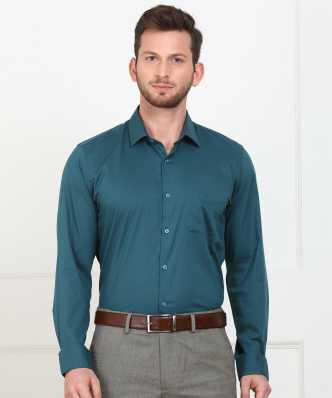F_belt: (89, 304, 234, 335)
F_shirt: (55, 109, 272, 380)
